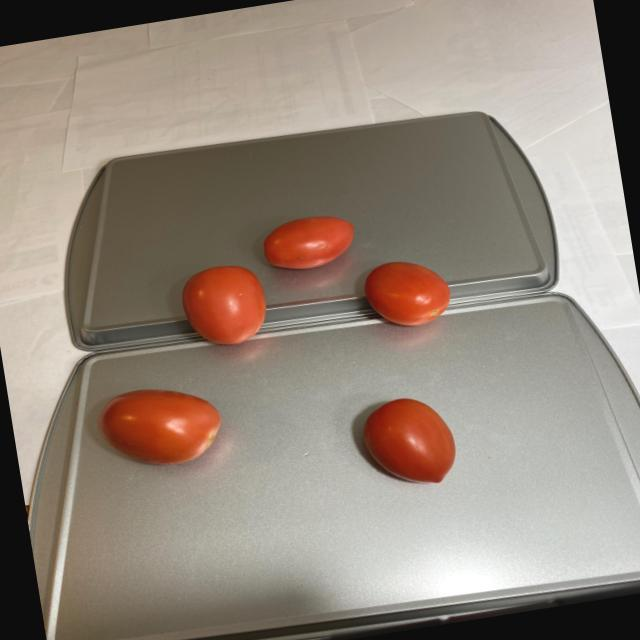tomato: (169, 196, 458, 362), (91, 376, 225, 476), (358, 386, 457, 498)
